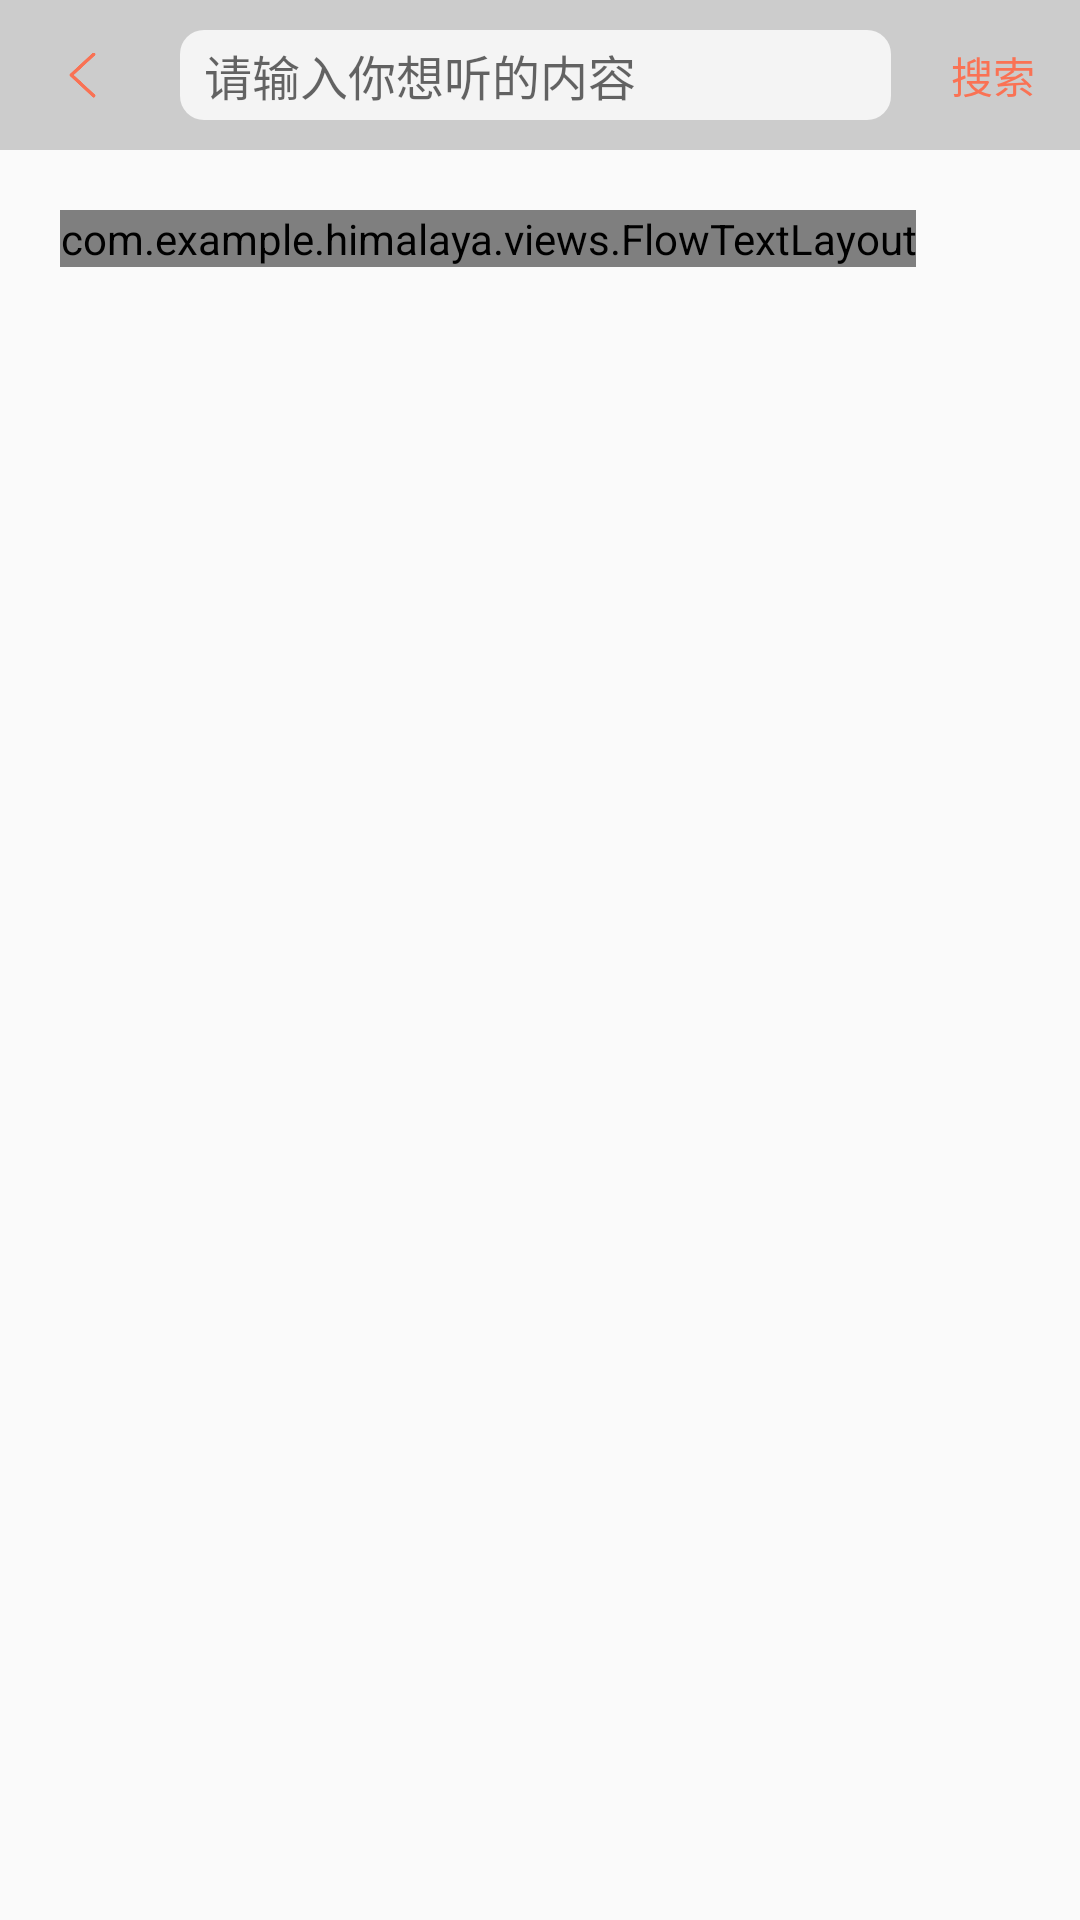

Named icons in this screenshot (1080px×1920px) and their bounding boxes, (x1, y1, x2, y2):
back: (69, 53, 96, 98)
